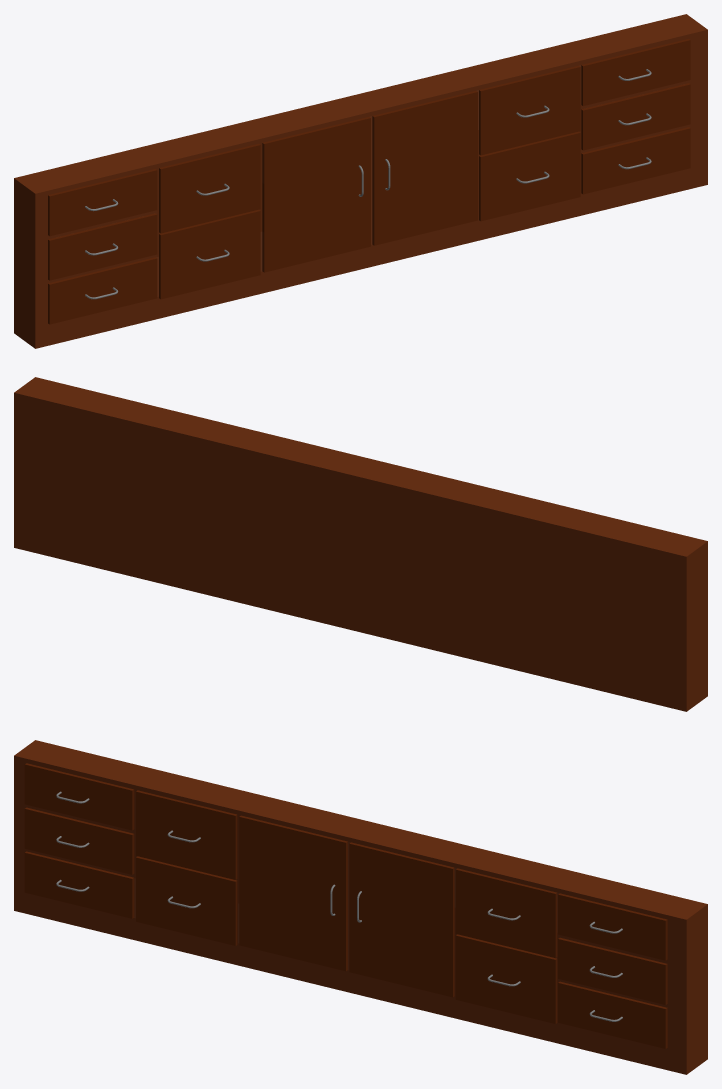
File: Muebles.fbx
3 renders of one model, top to bottom at view 1: azimuth 30°, elevation 25°; view 2: azimuth 150°, elevation 25°; view 3: azimuth 330°, elevation 25°, orthographic.
Visible parts, largest first — view 1: Mueble; view 2: Mueble; view 3: Mueble.
Part boxes in pixels (x1,y1,x2,y2): Mueble: [14, 14, 707, 348]; Mueble: [14, 377, 707, 711]; Mueble: [14, 740, 707, 1074].
Bounding box in the file's own units: 3630 × 800 × 276.
2 materials, 2 textured.
